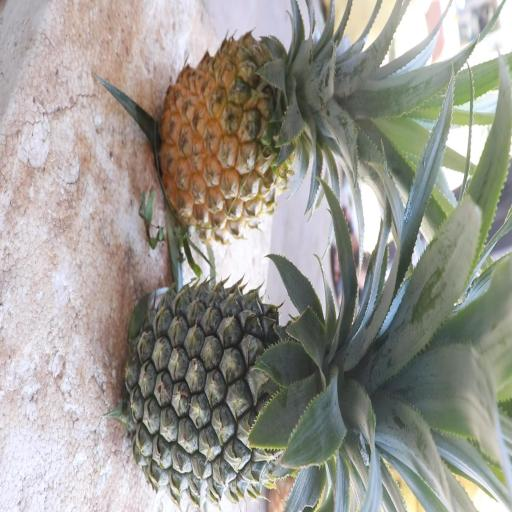Pineapple - v8 v1: (152, 30, 424, 237)
